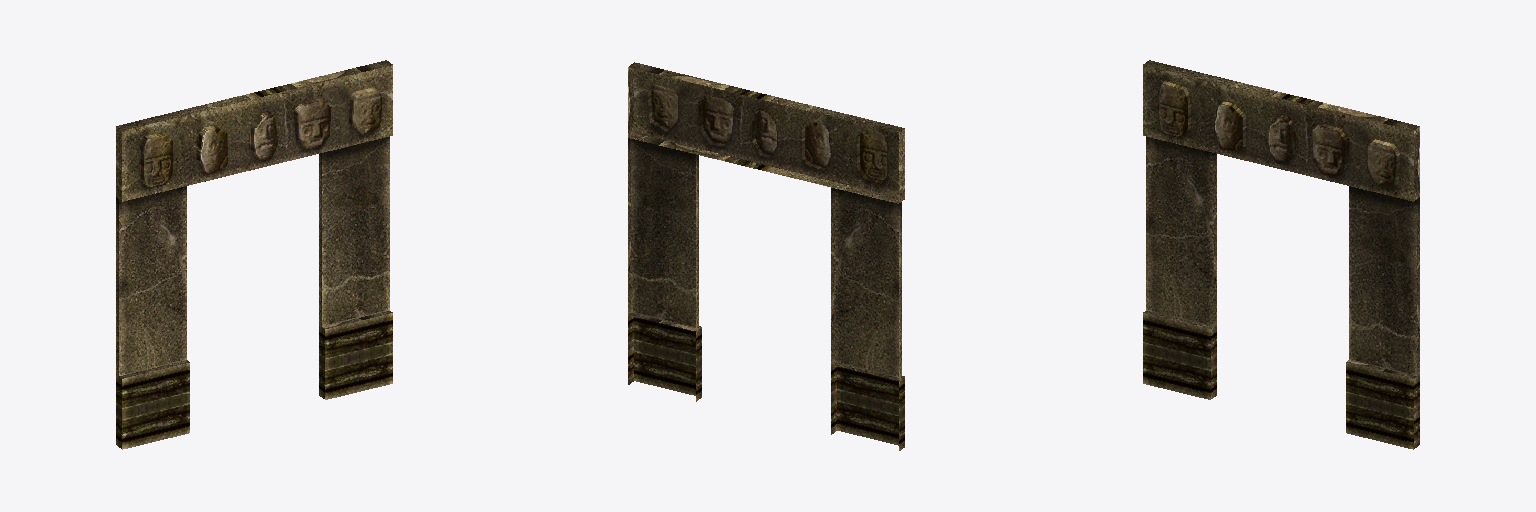
The picture shows the model from 3 angles: view 1: azimuth 30°, elevation 25°; view 2: azimuth 150°, elevation 25°; view 3: azimuth 330°, elevation 25°; orthographic projection.
Visible parts, largest first — view 1: Box003; view 2: Box003; view 3: Box003.
Boxes of the visible parts, <box> form: Box003: <box>116,60,392,449</box>; Box003: <box>628,62,904,450</box>; Box003: <box>1143,60,1419,449</box>.
Bounding box in the file's own units: 3072 × 3456 × 186.
1 materials, 1 textured.